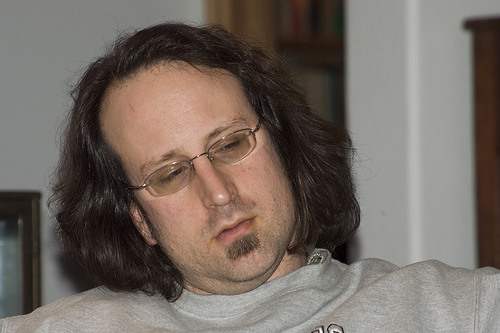without_mask: (102, 59, 317, 292)
